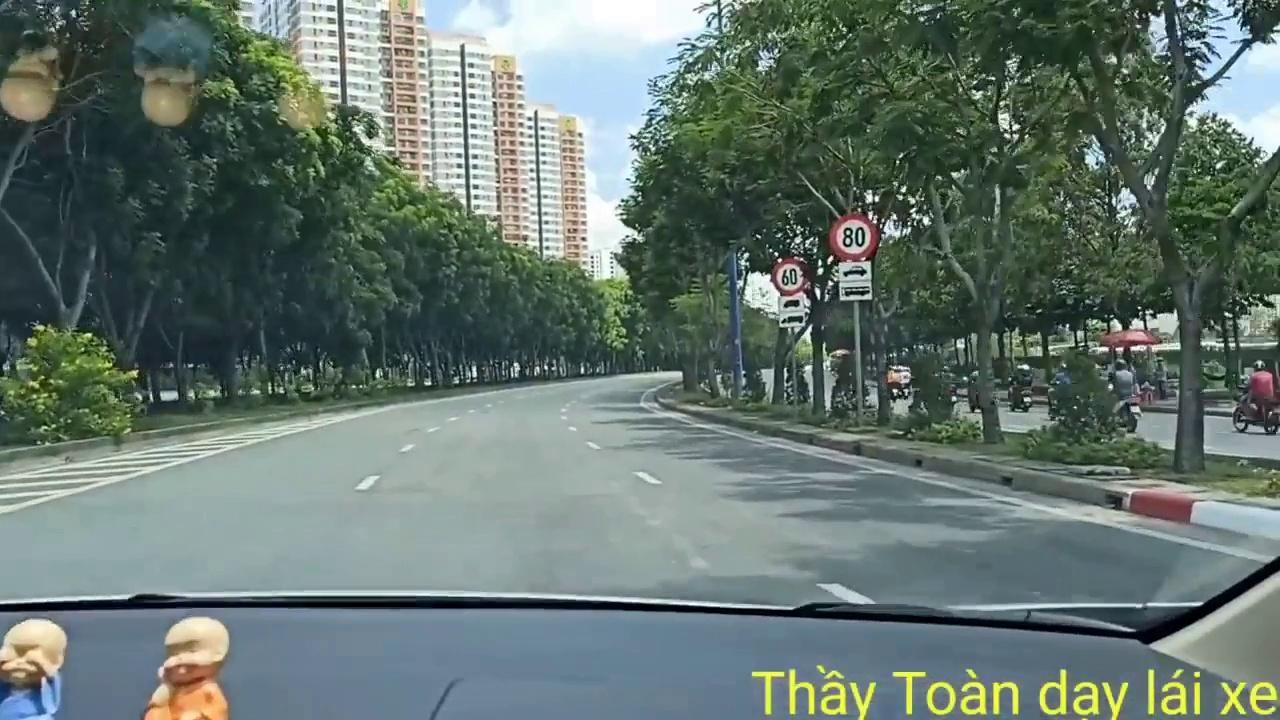Biển phụ: (839, 260, 874, 301), (776, 294, 810, 330)
GIơi hạn tốc độ 60Km/h: (770, 257, 810, 295)
Giới hạn tốc độ 80Km/h: (829, 211, 879, 261)
